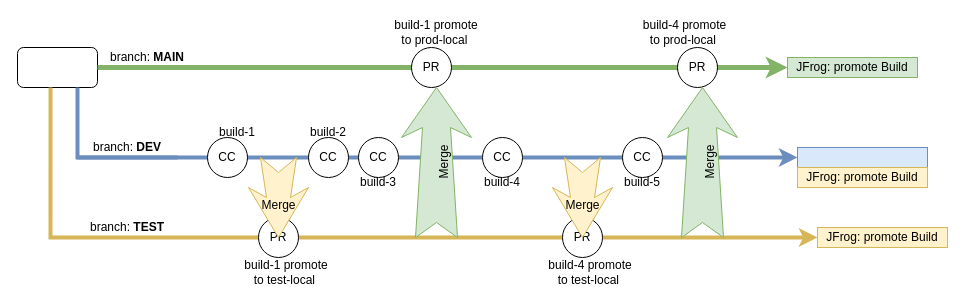
The diagram is 965 pixels wide and 304 high, and some of its shapes have lost their labels. The centre of each missing label's shape, as x and y in pixels:
GIT Repo: pixel 57 67
JFrog: create Build: pixel 862 157
